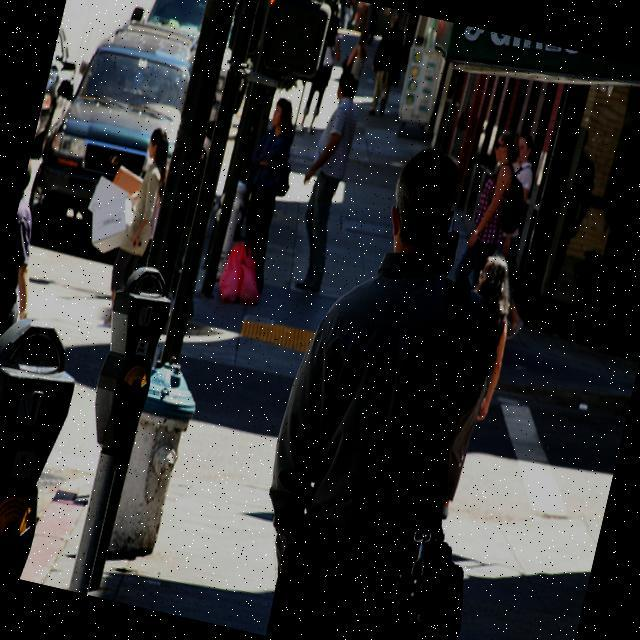fire_hydrant: (104, 348, 208, 564), (200, 175, 250, 282)
